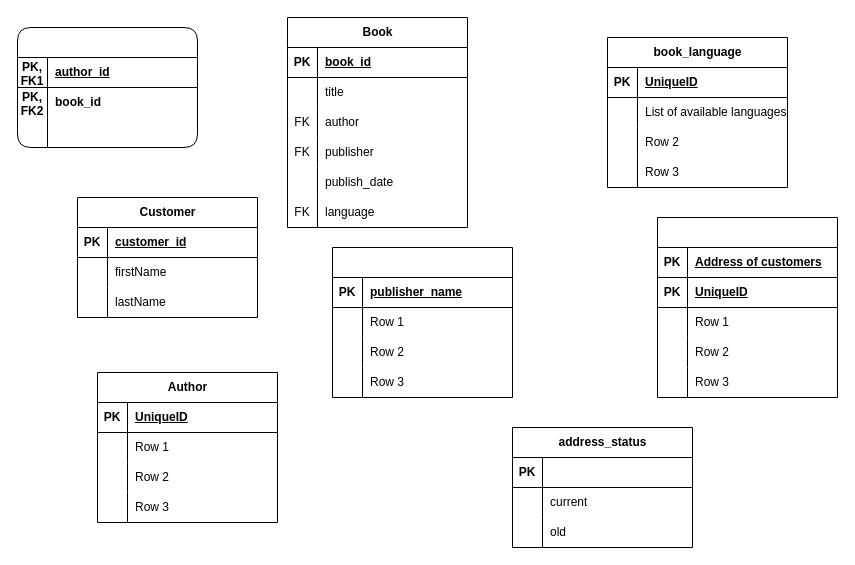
The diagram is 855 pixels wide and 565 high, and some of its shapes have lost their labels. Here are the shapes that lost their labels. From the top down, the box of each, then its label:
(16, 26, 198, 148): book_authors
(332, 246, 512, 398): Publishers
(656, 216, 838, 398): customer_address
